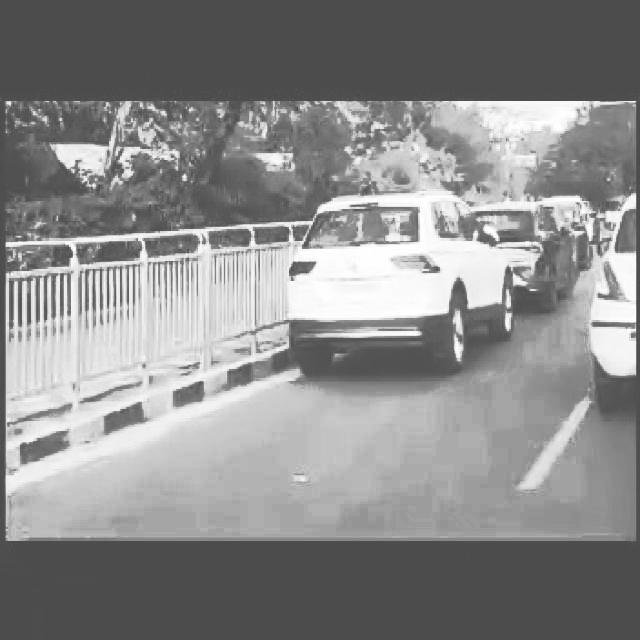Car: (286, 189, 504, 380), (589, 196, 640, 400), (518, 191, 566, 311)
